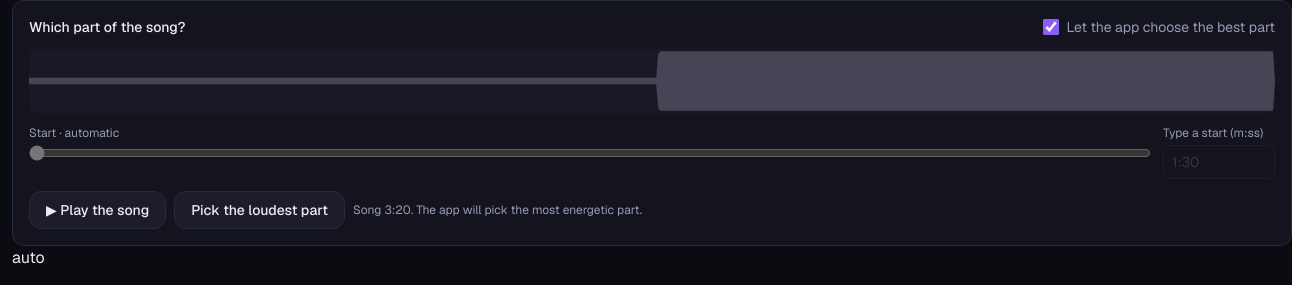
Scenario: AudioRangePicker: choose the part of the song › lets the user pick a part with the slider, limited so the whole Reel fits
Expected: the text "Song 3:20. The app will pick the most energetic part." is shown, x1=353 y1=202 x2=642 y2=218
Click the checkbox labelled "Let the app choose the best part" at (1050, 27), box x1=1042 y1=19 x2=1058 y2=35
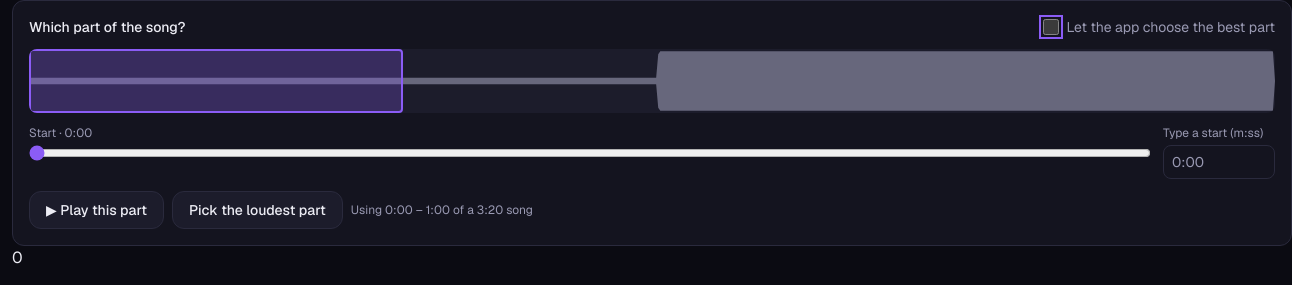
Result: the slider named "Start of the part of the song" is enabled
Set the slider named "Start of the part of the song" to "95" at (788, 153), box x1=29 y1=145 x2=1151 y2=161
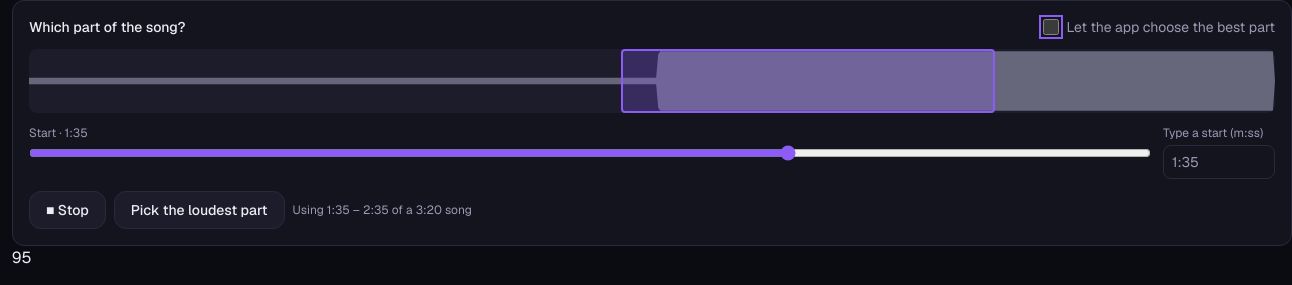
Result: the text named "start" reads "95" at x1=12 y1=247 x2=32 y2=268
Result: the text "Using 1:35 – 2:35 of a 3:20 song" is shown at x1=293 y1=202 x2=472 y2=218
